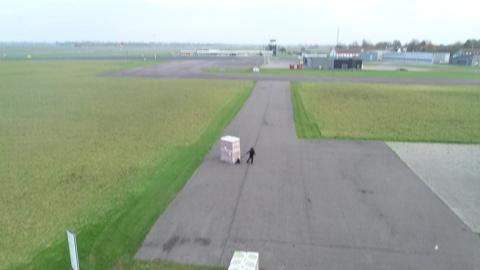RockwoolPallet: (218, 137, 241, 165)
